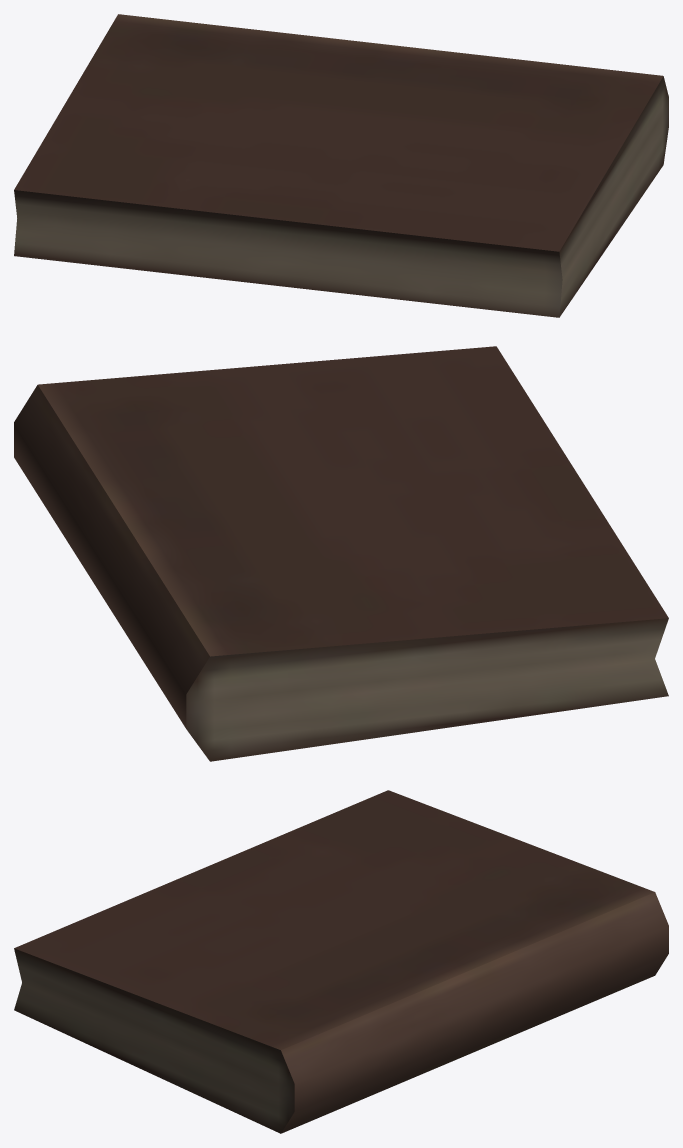
Rendered from book-2.FBX.
3 renders of one model, top to bottom at view 1: azimuth 30°, elevation 25°; view 2: azimuth 150°, elevation 25°; view 3: azimuth 270°, elevation 25°, orthographic. The views are drawn at different scales.
Visible parts, largest first — view 1: book-2; view 2: book-2; view 3: book-2.
Part boxes in pixels (x1,y1,x2,y2): book-2: [14, 14, 668, 317]; book-2: [14, 346, 668, 761]; book-2: [14, 790, 668, 1133].
Bounding box in the file's own units: 50.02 × 7.04 × 50.02.
